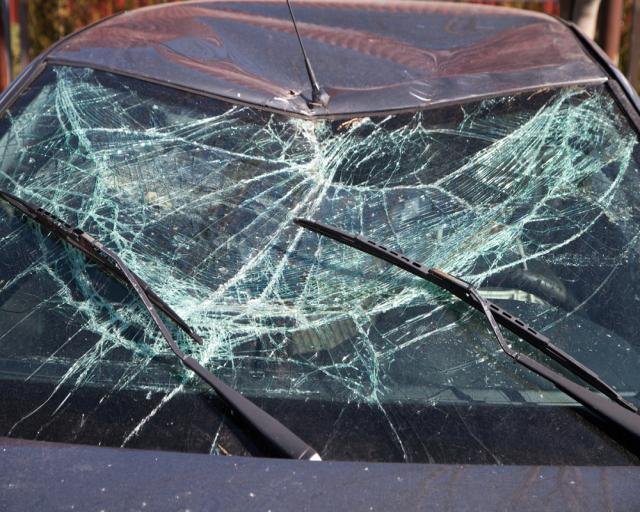dent: (160, 7, 603, 115)
glass shatter: (0, 62, 640, 466)
